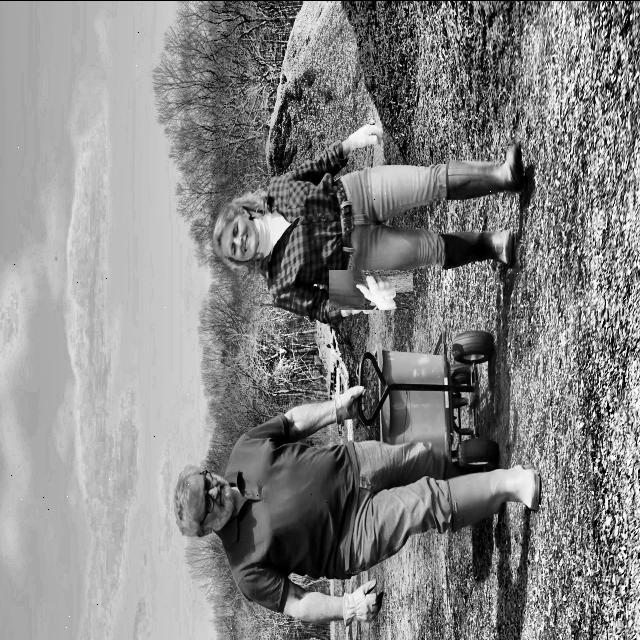gloved: (340, 257, 402, 320), (341, 559, 389, 640), (329, 369, 372, 428), (346, 111, 389, 160)
